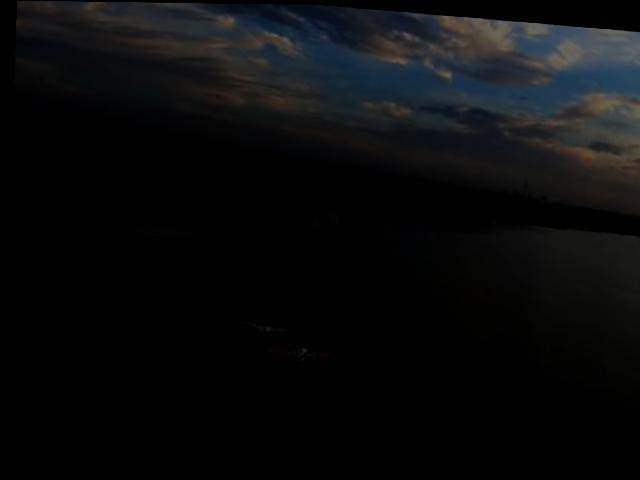uav: (251, 339, 347, 372), (231, 311, 298, 338)
